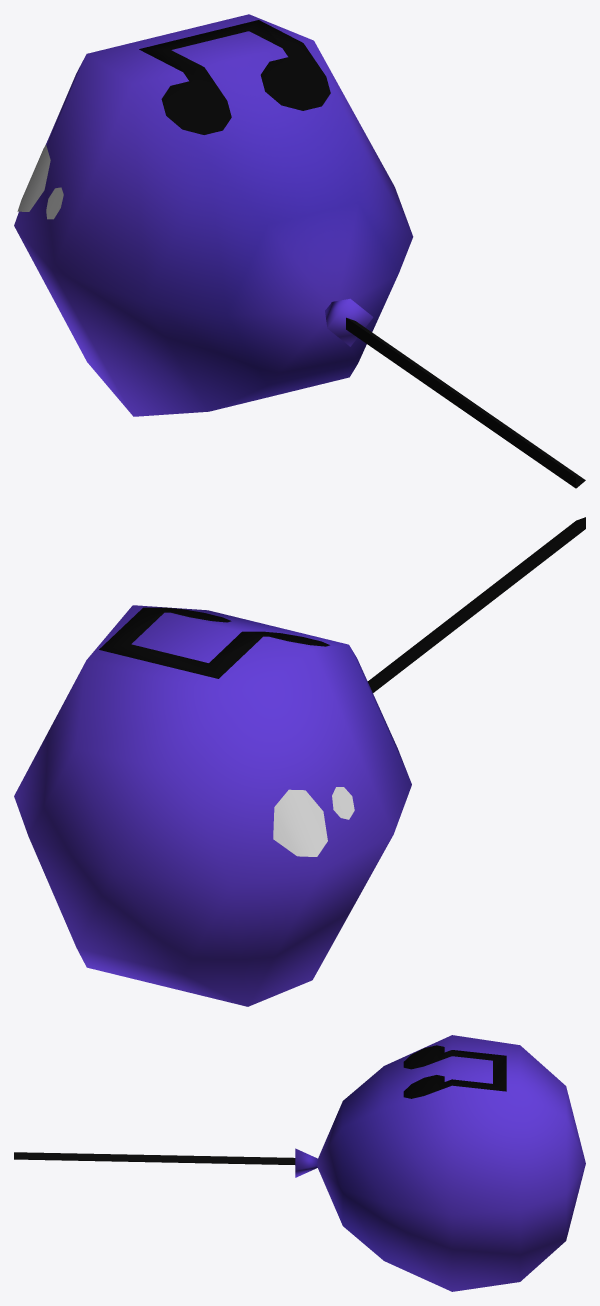
Rendered from PurpleBallon1.fbx.
3 views of the same model, one above another, from view 1: azimuth 30°, elevation 25°; view 2: azimuth 150°, elevation 25°; view 3: azimuth 270°, elevation 25° (orthographic). The views are drawn at different scales.
Visible parts, largest first — view 1: PurpleBallon1; view 2: PurpleBallon1; view 3: PurpleBallon1.
Boxes of the visible parts, box(x1,y1,x2,y2) form: PurpleBallon1: box(14, 14, 585, 488); PurpleBallon1: box(14, 517, 585, 1006); PurpleBallon1: box(14, 1035, 585, 1291).
Bounding box in the file's own units: 54.73 × 50.74 × 129.
